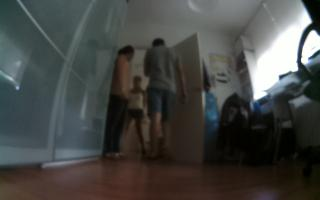person: (139, 34, 190, 160), (90, 40, 135, 161), (124, 72, 147, 156)
